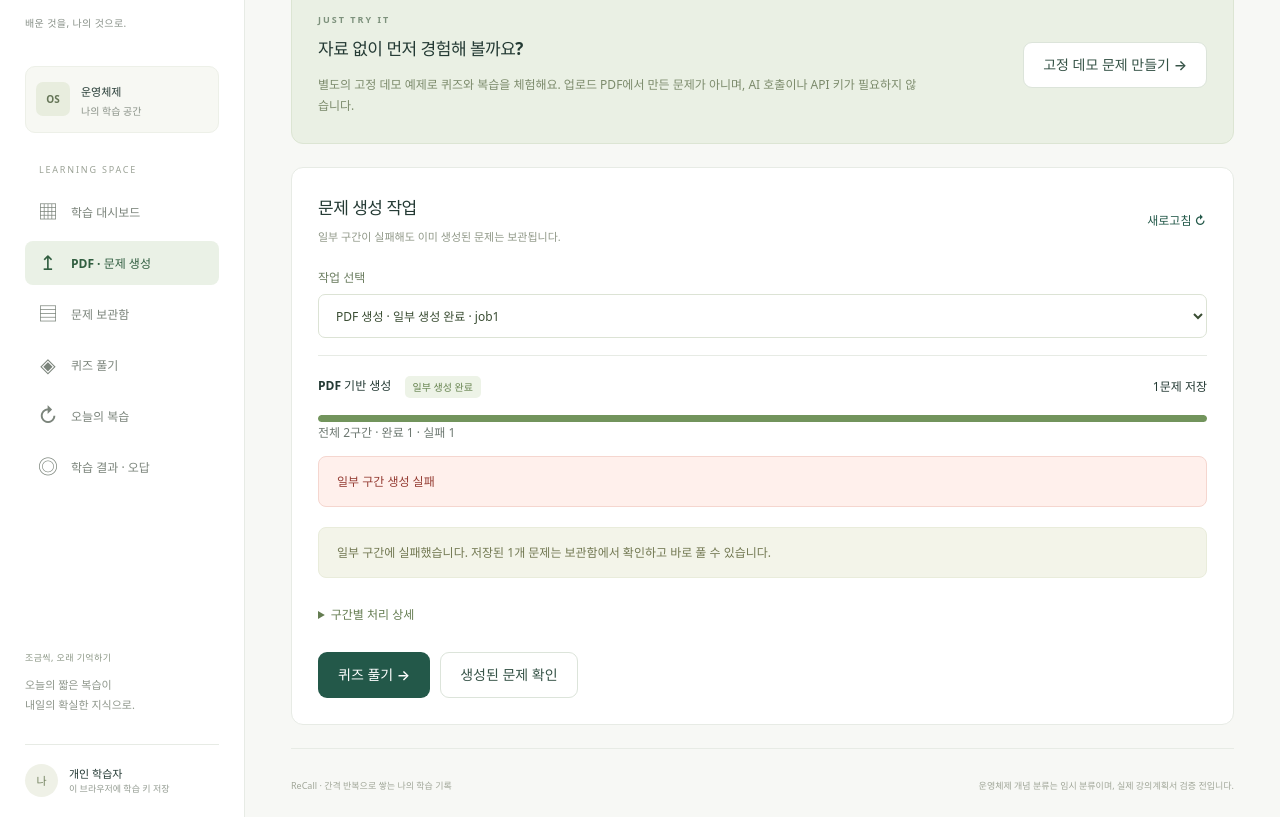
it: ReCall real API workflows › displays partial job errors while retaining successful questions and actual page sources
(page scrolled)
Expected: the text "일부 구간에 실패했습니다. 저장된 1개 문제는 보관함에서 확인하고 바로 풀 수 있습니다." is shown, x1=318 y1=527 x2=1207 y2=578
Click the heading "구간별 처리 상세" at (372, 614), box x1=331 y1=606 x2=414 y2=623
(page scrolled)
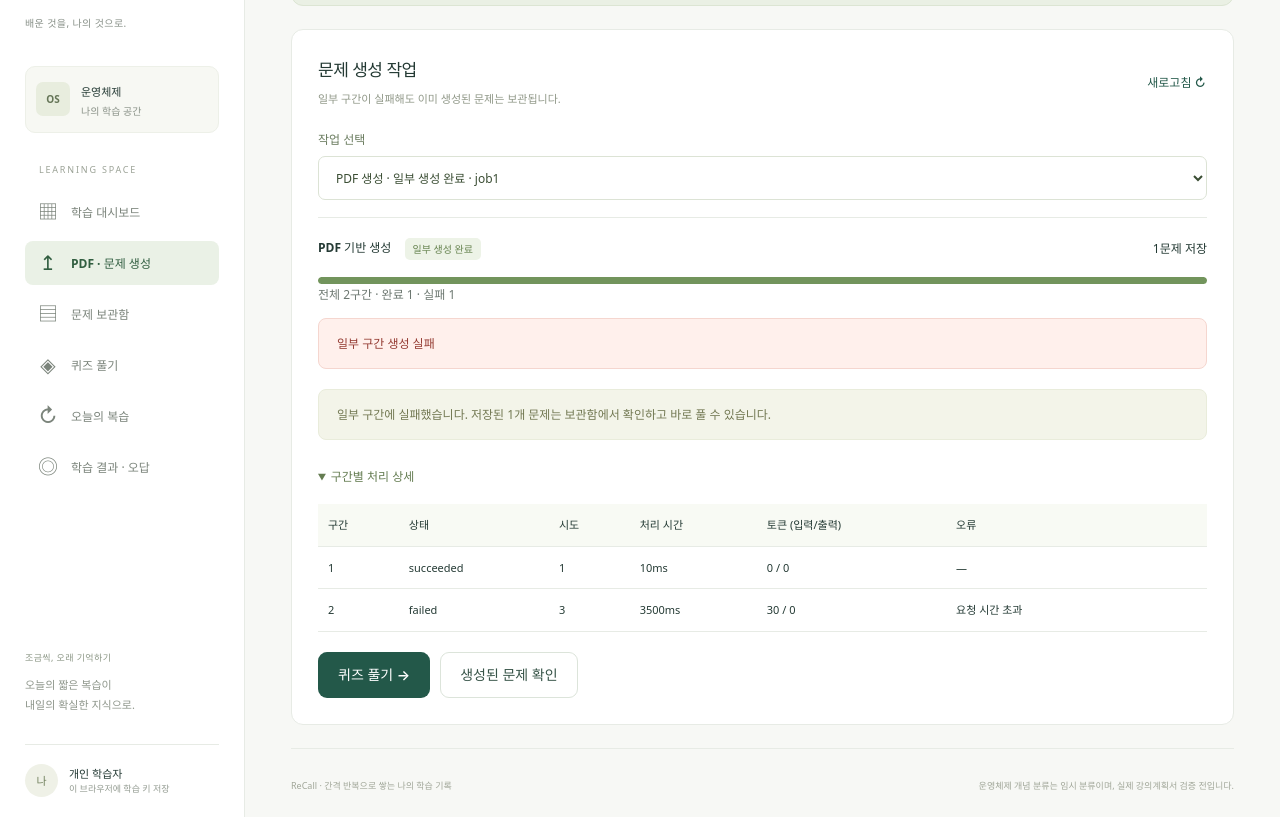
Expected: the text "요청 시간 초과" is shown, x1=946 y1=589 x2=1207 y2=631
Click the button "생성된 문제 확인" at (509, 675), box x1=440 y1=652 x2=578 y2=698
(page scrolled)
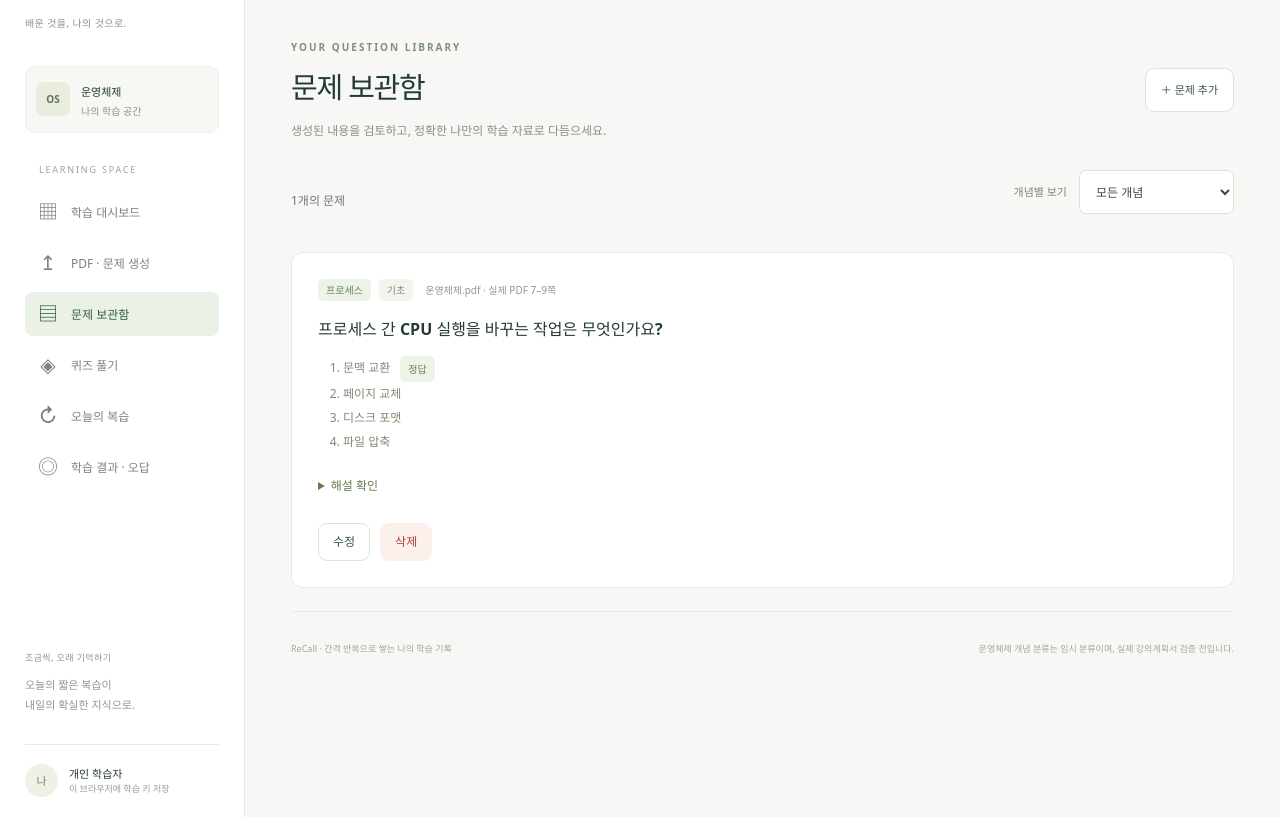
Expected: the text "운영체제.pdf · 실제 PDF 7–9쪽" is shown, x1=425 y1=282 x2=556 y2=298
